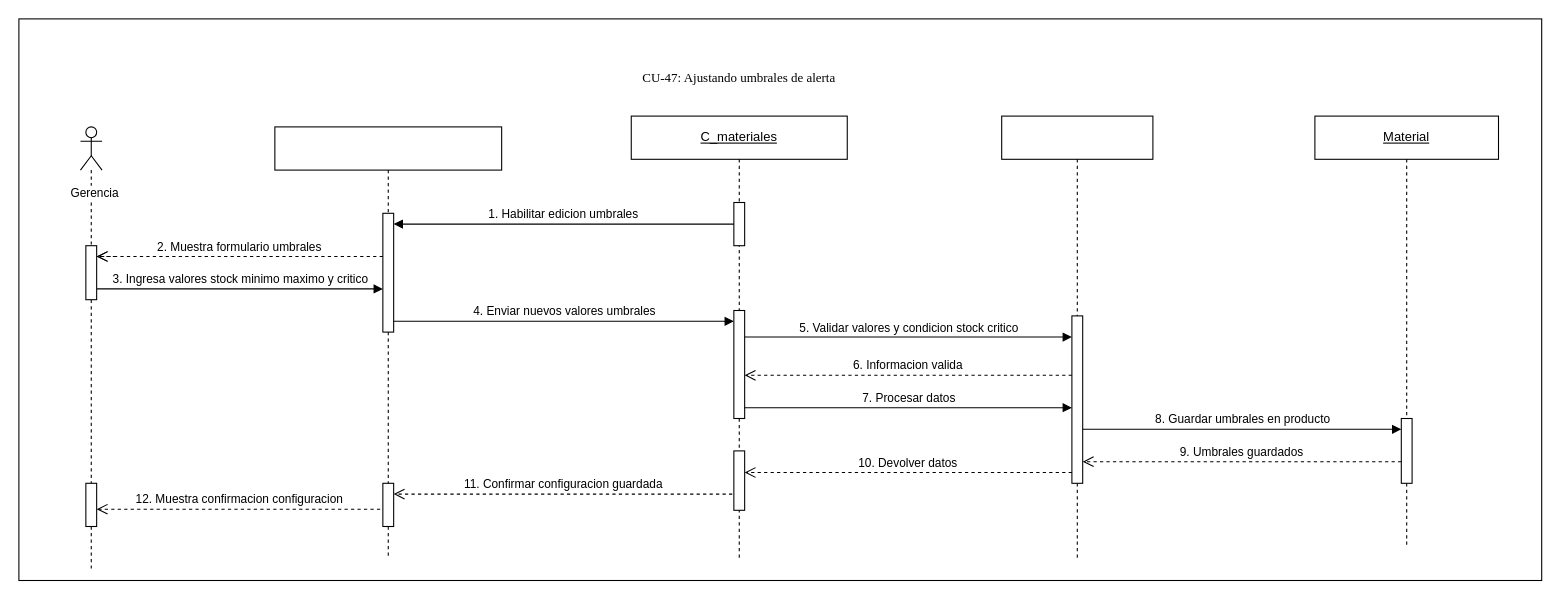
This 1561x599 diagram has some shape labels left out. The centre of each missing label's shape, as x and y in pixels:
"C_Postgre" goes at (1077,337).
"V_EditarProducto" goes at (388,342).
